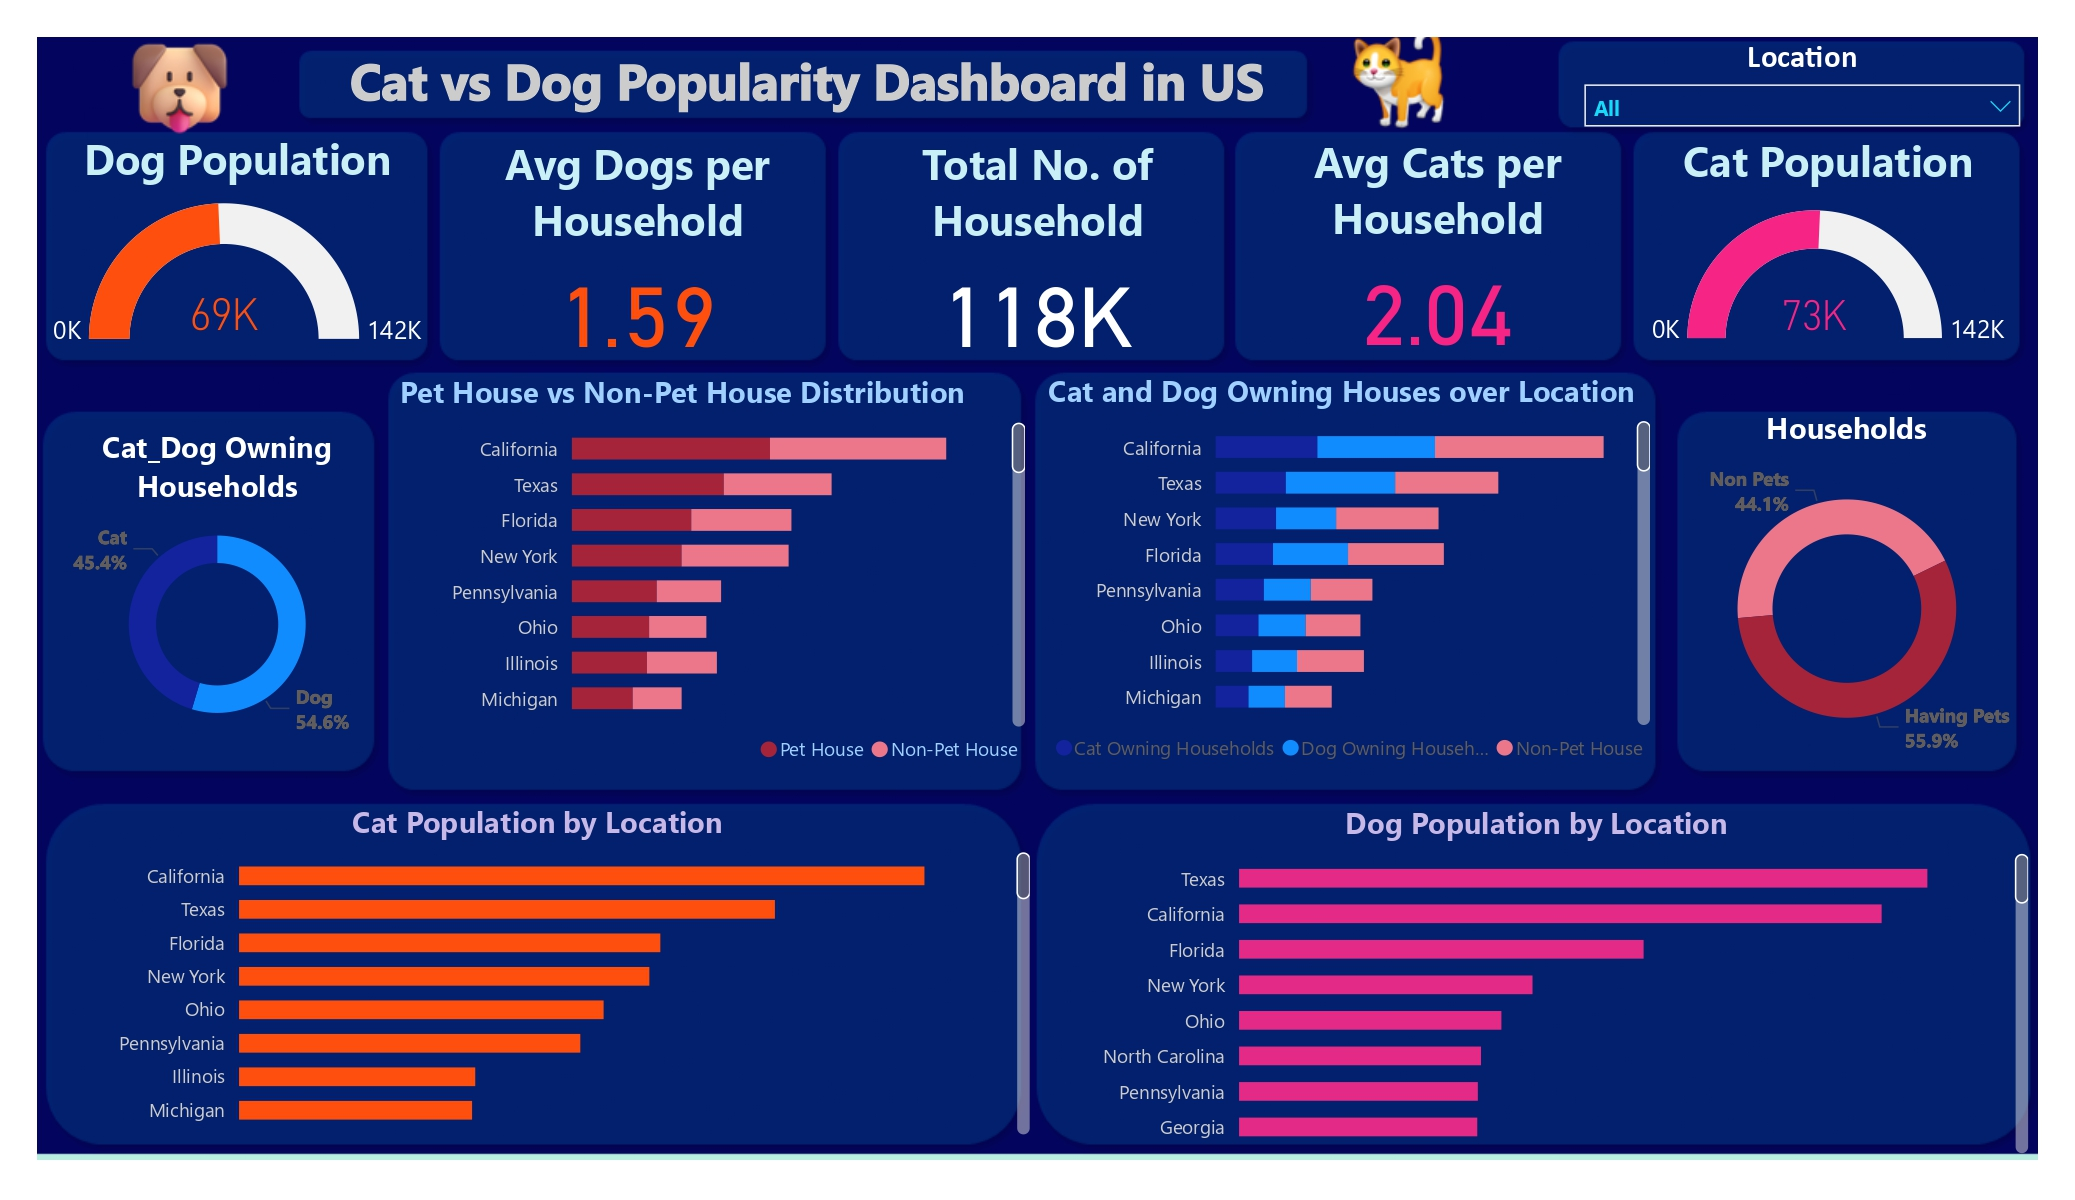

This screenshot's page, from the dashboard's own definition file:
{"tool":"powerbi","page":{"name":"Page 1","canvas":[1280,720],"ordinal":0},"visuals":[{"type":"gauge","title":"Dog Population","fields":{"Y":["Sum(States.Dog Population (in 1000))"],"MaxValue":["Sum(States.Total_dog_cat_population)"]},"box":[0,59.1,255.8,151.4],"z":0},{"type":"gauge","title":"Cat Population","fields":{"Y":["Sum(States.Cat Population)"],"MaxValue":["Sum(States.Total_dog_cat_population)"]},"box":[1023.2,60.4,245.7,152.3],"z":1000},{"type":"card","title":"Avg Dogs per Household","fields":{"Values":["Avg(States.Mean Number of Dogs per household)"]},"box":[255.9,62.1,255.9,149.9],"z":2000},{"type":"card","title":"Avg Cats per Household","fields":{"Values":["Avg(States.Mean Number of Cats)"]},"box":[767.7,60.6,255.9,149.9],"z":3000},{"type":"card","title":"Total No. of Household","fields":{"Values":["Sum(States.Number of Households (in 1000))"]},"box":[511.8,62.1,255.9,149.9],"z":4000},{"type":"donutChart","title":"Cat_Dog Owning Households","fields":{"Y":["Sum(States.Dog Owning Households (1000s))","Sum(States.Cat Owning Households)"]},"box":[0,249,230,209.2],"z":5000},{"type":"donutChart","title":" Households","fields":{"Y":["Sum(States.Non Pet House)","Sum(States.Number of Pet Households (in 1000))"]},"box":[1037.4,236.9,242.1,236.9],"z":6000},{"type":"barChart","title":"Pet House vs Non-Pet House Distribution","fields":{"Category":["States.Location"],"Y":["Sum(States.Number of Pet Households (in 1000))","Sum(States.Non Pet House)"]},"box":[227.1,214.1,409.6,260.1],"z":7000},{"type":"barChart","title":"Cat and Dog Owning Houses over Location","fields":{"Category":["States.Location"],"Y":["Sum(States.Cat Owning Households)","Sum(States.Dog Owning Households (1000s))","Sum(States.Non Pet House)"]},"box":[641.7,213.3,395,260],"z":8000},{"type":"barChart","title":"Cat Population by Location","fields":{"Category":["States.Location"],"Y":["Sum(States.Cat Population)"]},"box":[0,488.6,639.5,218.4],"z":9000},{"type":"barChart","title":"Dog Population by Location","fields":{"Category":["States.Location"],"Y":["Sum(States.Dog Population (in 1000))"]},"box":[639.5,490.1,639.5,228.5],"z":10000},{"type":"textbox","box":[170,0,645,53.3],"z":11000},{"type":"slicer","title":"Location","fields":{"Values":["States.Location"]},"box":[980.3,0,299.1,62.2],"z":12000}]}

Visuals, with their boxes in screenshot pixels (x1, y1, x2, y2):
"Dog Population" gauge: {"left": 38, "top": 130, "right": 437, "bottom": 366}
"Cat Population" gauge: {"left": 1636, "top": 132, "right": 2020, "bottom": 370}
"Avg Dogs per Household" card: {"left": 437, "top": 135, "right": 837, "bottom": 369}
"Avg Cats per Household" card: {"left": 1237, "top": 132, "right": 1637, "bottom": 366}
"Total No. of Household" card: {"left": 837, "top": 135, "right": 1237, "bottom": 369}
"Cat_Dog Owning Households" donutChart: {"left": 38, "top": 427, "right": 397, "bottom": 753}
" Households" donutChart: {"left": 1658, "top": 408, "right": 2037, "bottom": 778}
"Pet House vs Non-Pet House Distribution" barChart: {"left": 392, "top": 372, "right": 1032, "bottom": 778}
"Cat and Dog Owning Houses over Location" barChart: {"left": 1040, "top": 371, "right": 1657, "bottom": 777}
"Cat Population by Location" barChart: {"left": 38, "top": 801, "right": 1037, "bottom": 1142}
"Dog Population by Location" barChart: {"left": 1037, "top": 803, "right": 2036, "bottom": 1160}
textbox: {"left": 303, "top": 38, "right": 1311, "bottom": 121}
"Location" slicer: {"left": 1569, "top": 38, "right": 2037, "bottom": 135}
